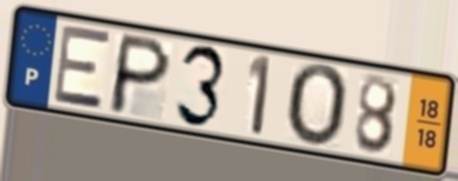1: (245, 53, 273, 140)
3: (169, 42, 231, 131)
8: (352, 73, 399, 157)
E: (51, 24, 112, 112)
O: (285, 61, 352, 152)
P: (105, 31, 175, 119)
